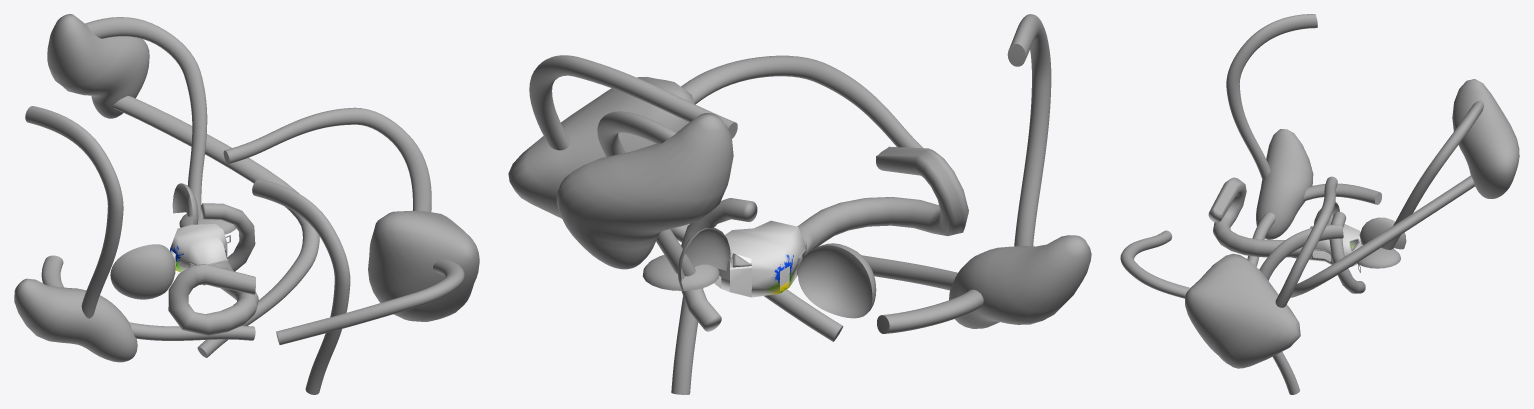
File: EntranceNew.fbx
3 renders of one model, left to right at view 1: azimuth 30°, elevation 25°; view 2: azimuth 150°, elevation 25°; view 3: azimuth 270°, elevation 25°, orthographic. The views are drawn at different scales.
Parts seen in each view (by area): view 1: Welt2, Welt3, Welt1, Nerv3, Nerv7, Nerv8, Entrance, Nerv5, Nerv2, Nerv6, pSphere1, polySurface1 (+4 smaller); view 2: Welt3, Welt1, Entrance, Welt2, Nerv6, Nerv7, Nerv5, polySurface1, pSphere1, Nerv4, Nerv8, Nerv1 (+4 smaller); view 3: Welt2, Welt3, Welt1, Nerv5, Nerv3, Entrance, Nerv8, Nerv2, Nerv7, Nerv6, Nerv4, Nerv1 (+3 smaller).
Boxes of the visible parts, x1,y1,x2,y2 form: Welt2: [368, 210, 479, 321]; Welt3: [47, 14, 149, 118]; Welt1: [14, 278, 137, 362]; Nerv3: [112, 96, 319, 357]; Nerv7: [223, 107, 431, 211]; Nerv8: [85, 17, 207, 216]; Entrance: [168, 261, 258, 335]; Nerv5: [25, 106, 123, 318]; Nerv2: [252, 179, 350, 394]; Nerv6: [276, 259, 464, 344]; pSphere1: [110, 244, 175, 299]; polySurface1: [170, 224, 227, 272]; Welt3: [556, 113, 733, 269]; Welt1: [949, 235, 1091, 328]; Entrance: [797, 146, 968, 262]; Welt2: [508, 77, 694, 218]; Nerv6: [681, 55, 923, 148]; Nerv7: [529, 55, 737, 150]; Nerv5: [1007, 14, 1051, 246]; polySurface1: [714, 220, 805, 297]; pSphere1: [798, 243, 876, 318]; Nerv4: [862, 255, 983, 333]; Nerv8: [597, 111, 695, 276]; Nerv1: [681, 198, 757, 331]; Welt2: [1185, 253, 1300, 368]; Welt3: [1452, 79, 1519, 198]; Welt1: [1256, 129, 1313, 239]; Nerv5: [1226, 14, 1317, 179]; Nerv3: [1290, 175, 1474, 297]; Entrance: [1208, 177, 1302, 258]; Nerv8: [1381, 101, 1483, 249]; Nerv2: [1259, 224, 1343, 394]; Nerv7: [1275, 176, 1337, 307]; Nerv6: [1120, 230, 1190, 298]; Nerv4: [1247, 183, 1381, 266]; Nerv1: [1329, 211, 1365, 293].
Size of the model in its own units: 109 by 82.27 by 108.
